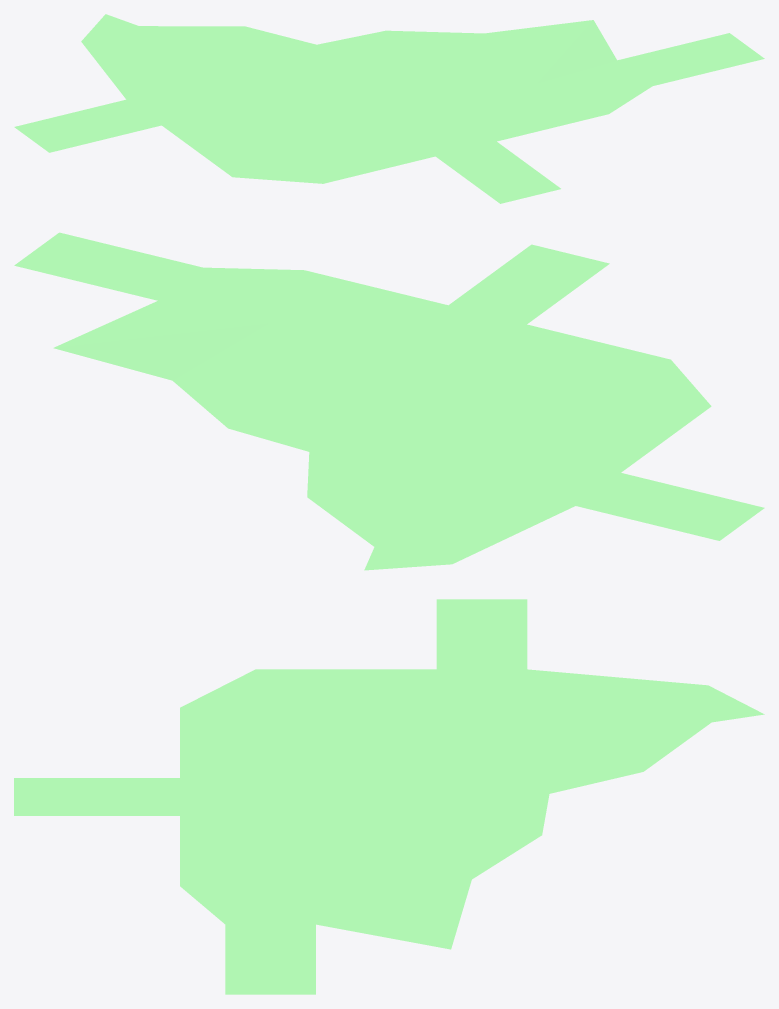
File: s05a_tb3-floor.glb
3 views of the same model, one above another, from view 1: azimuth 30°, elevation 25°; view 2: azimuth 150°, elevation 25°; view 3: azimuth 270°, elevation 25° (orthographic). The views are drawn at different scales.
Parts seen in each view (by area): view 1: collision_floor-colonly; view 2: collision_floor-colonly; view 3: collision_floor-colonly.
Boxes of the visible parts, box(x1,y1,x2,y2) form: collision_floor-colonly: box(15, 14, 764, 203); collision_floor-colonly: box(15, 233, 763, 569); collision_floor-colonly: box(14, 599, 763, 994).
Bounding box in the file's own units: 62 × 0.5 × 49.75.
